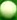white: (0, 0, 17, 20)
